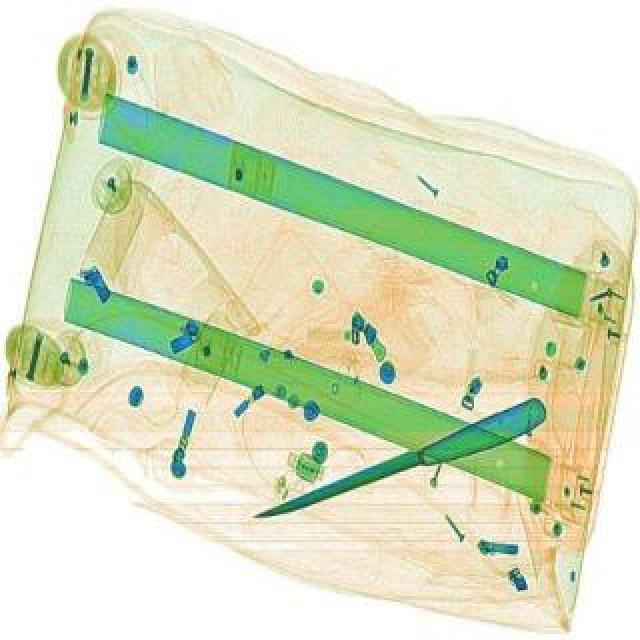knife: (248, 394, 552, 532)
